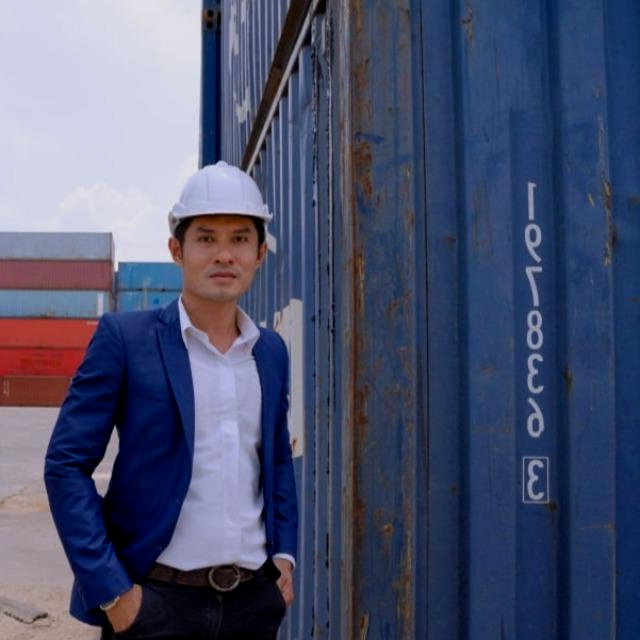Con_Casco: (163, 161, 271, 299)
Sin_Chaleco: (102, 296, 302, 588)
